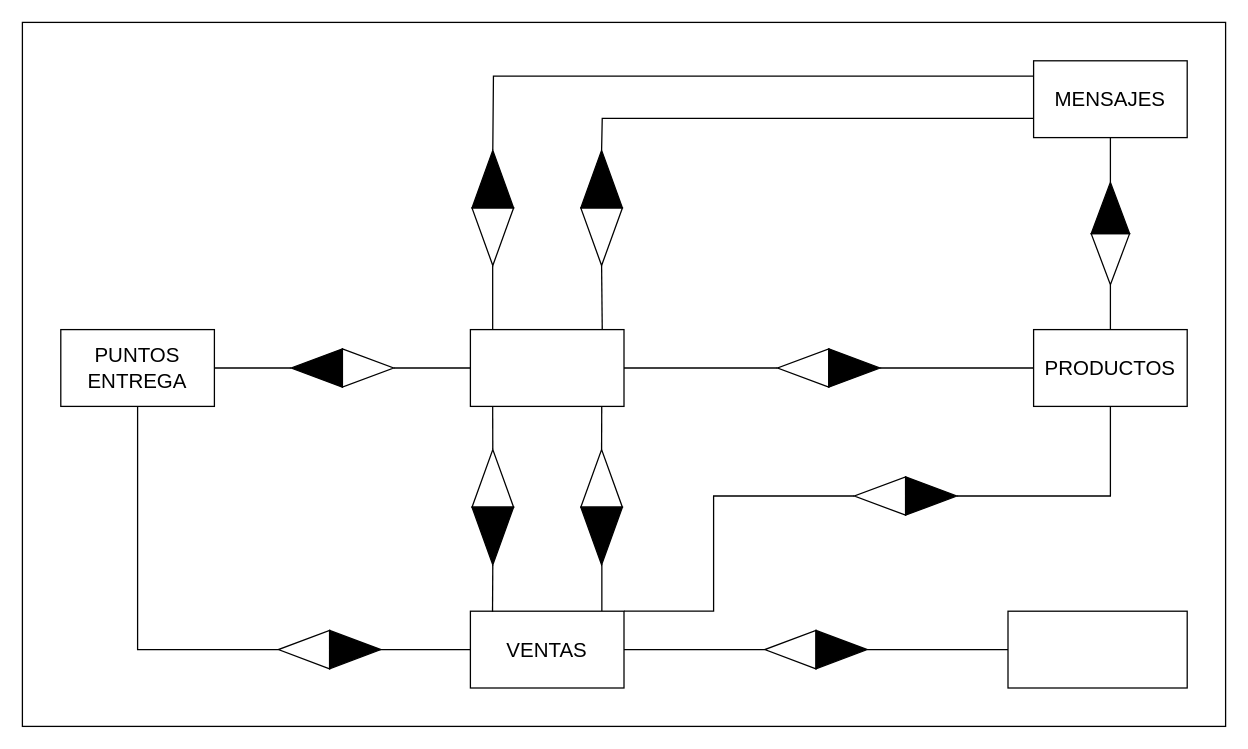
Image size: 1248x749. Some labels were removed from this diagram. The shapes that lost their labels are listed below. From the top down, each one's box as (x1, y1, x2, y2) in pixels, then its label:
(469, 328, 624, 406): USUARIOS
(1007, 610, 1187, 688): VALORACIONES
